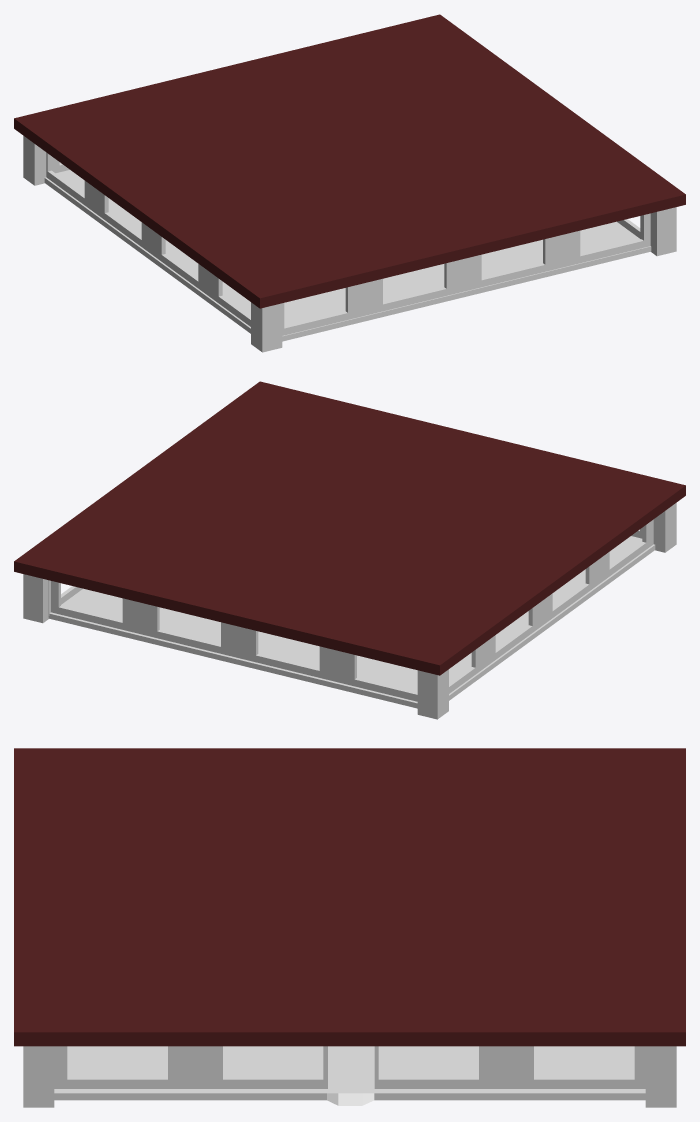
File: school shell.glb
3 renders of one model, top to bottom at view 1: azimuth 30°, elevation 25°; view 2: azimuth 150°, elevation 25°; view 3: azimuth 270°, elevation 25°, orthographic. The views are drawn at different scales.
Visible parts, largest first — view 1: Ceiling, Floor, Wall, Wall.001, Pillar, Pillar.001, Pillar.003; view 2: Ceiling, Floor, Wall.002, Wall.001, Pillar.003, Pillar.002, Pillar; view 3: Ceiling, Floor, Wall.003, Pillar.001, Pillar.002.
Boxes of the visible parts, x1,y1,x2,y2 form: Ceiling: (14, 14, 685, 308); Floor: (44, 170, 651, 341); Wall: (282, 213, 650, 335); Wall.001: (46, 152, 250, 326); Pillar: (251, 302, 282, 352); Pillar.001: (650, 207, 676, 256); Pillar.003: (23, 136, 54, 185); Ceiling: (14, 381, 685, 675); Floor: (48, 536, 655, 708); Wall.002: (51, 581, 417, 701); Wall.001: (449, 519, 653, 693); Pillar.003: (417, 669, 448, 719); Pillar.002: (23, 574, 48, 623); Pillar: (653, 503, 676, 552); Ceiling: (14, 748, 685, 1046); Floor: (54, 1046, 645, 1105); Wall.003: (54, 1046, 645, 1088); Pillar.001: (23, 1046, 54, 1107); Pillar.002: (645, 1046, 676, 1107).
Bounding box in the file's own units: 43.2 × 5.63 × 43.2.
